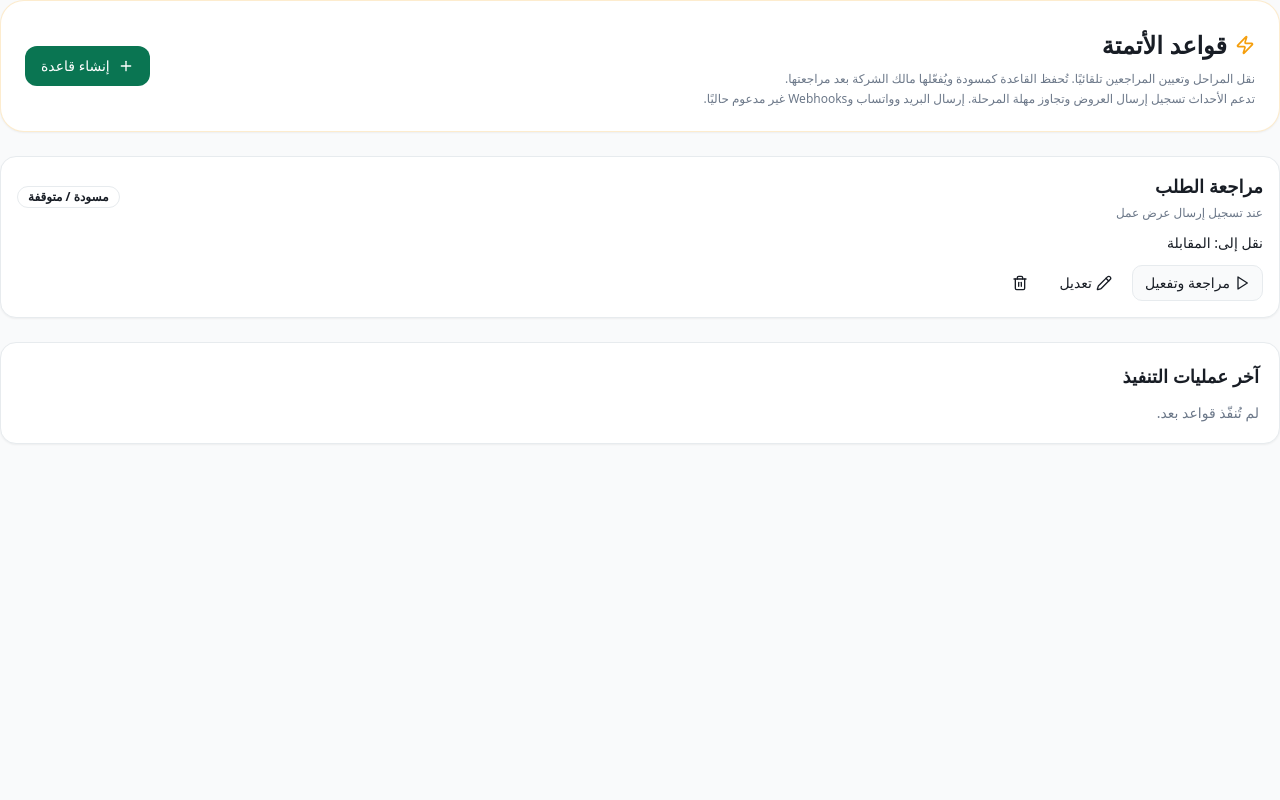
it: Automation activation review › allows review of a first recorded offer event
Click the button "مراجعة وتفعيل". click: (1198, 283)
box: [1132,265,1263,301]
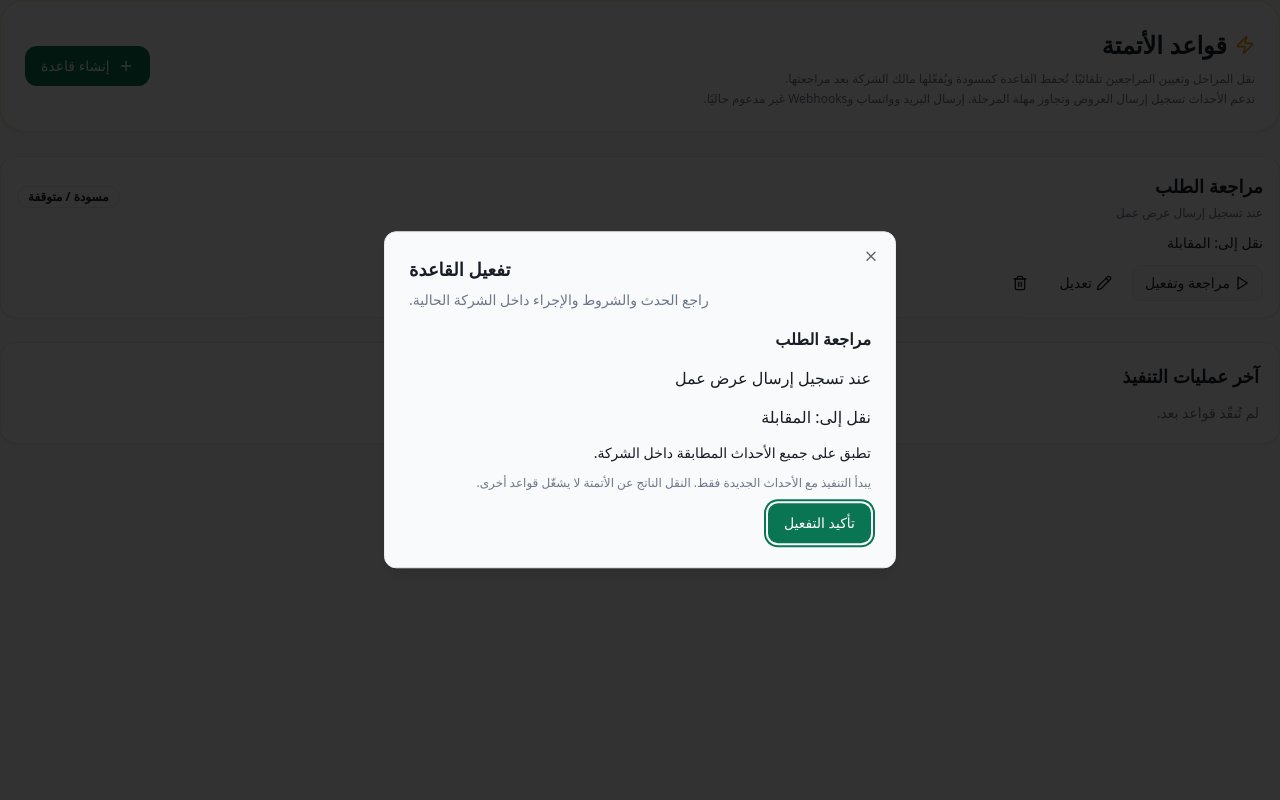
Expected: the dialog shows "عند تسجيل إرسال عرض عمل", [675,367,871,389]
